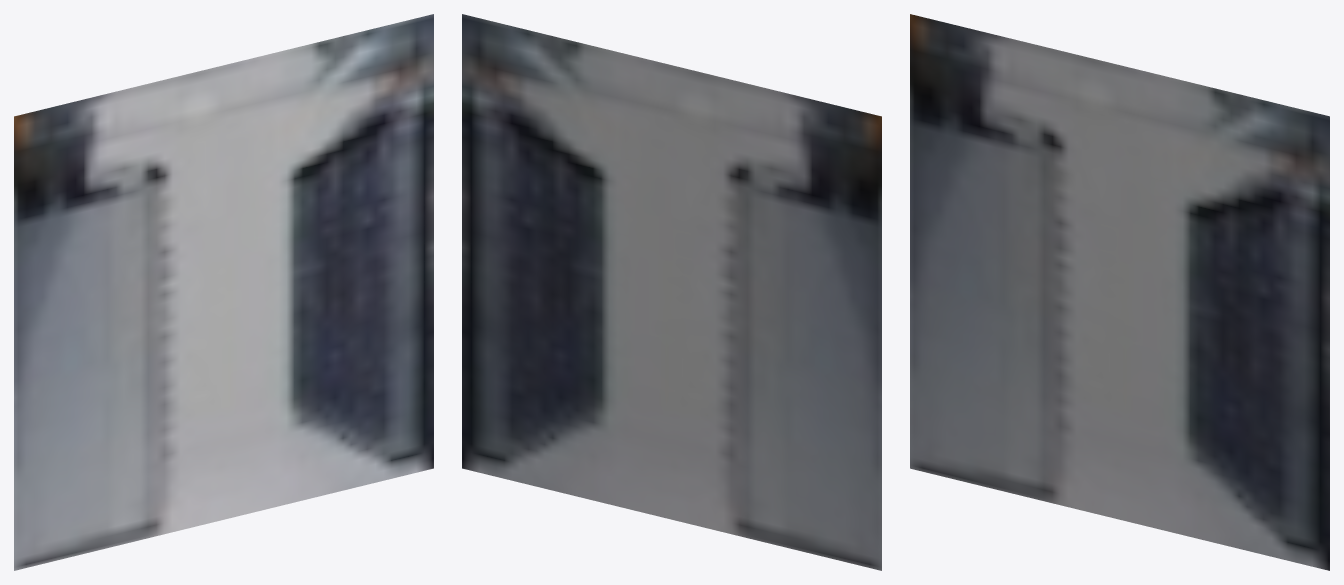
File: ProjectionBackWall.fbx
The picture shows the model from 3 angles, left to right: view 1: azimuth 30°, elevation 25°; view 2: azimuth 150°, elevation 25°; view 3: azimuth 330°, elevation 25°; orthographic projection.
Visible parts, largest first — view 1: ProjectBackWall; view 2: ProjectBackWall; view 3: ProjectBackWall.
Boxes of the visible parts, x1=… form: ProjectBackWall: x1=14, y1=14, x2=433, y2=570; ProjectBackWall: x1=462, y1=14, x2=881, y2=570; ProjectBackWall: x1=910, y1=14, x2=1329, y2=570.
Size of the model in its own units: 5.15 by 5.33 by 1.53e-05.
1 material, 1 textured.
